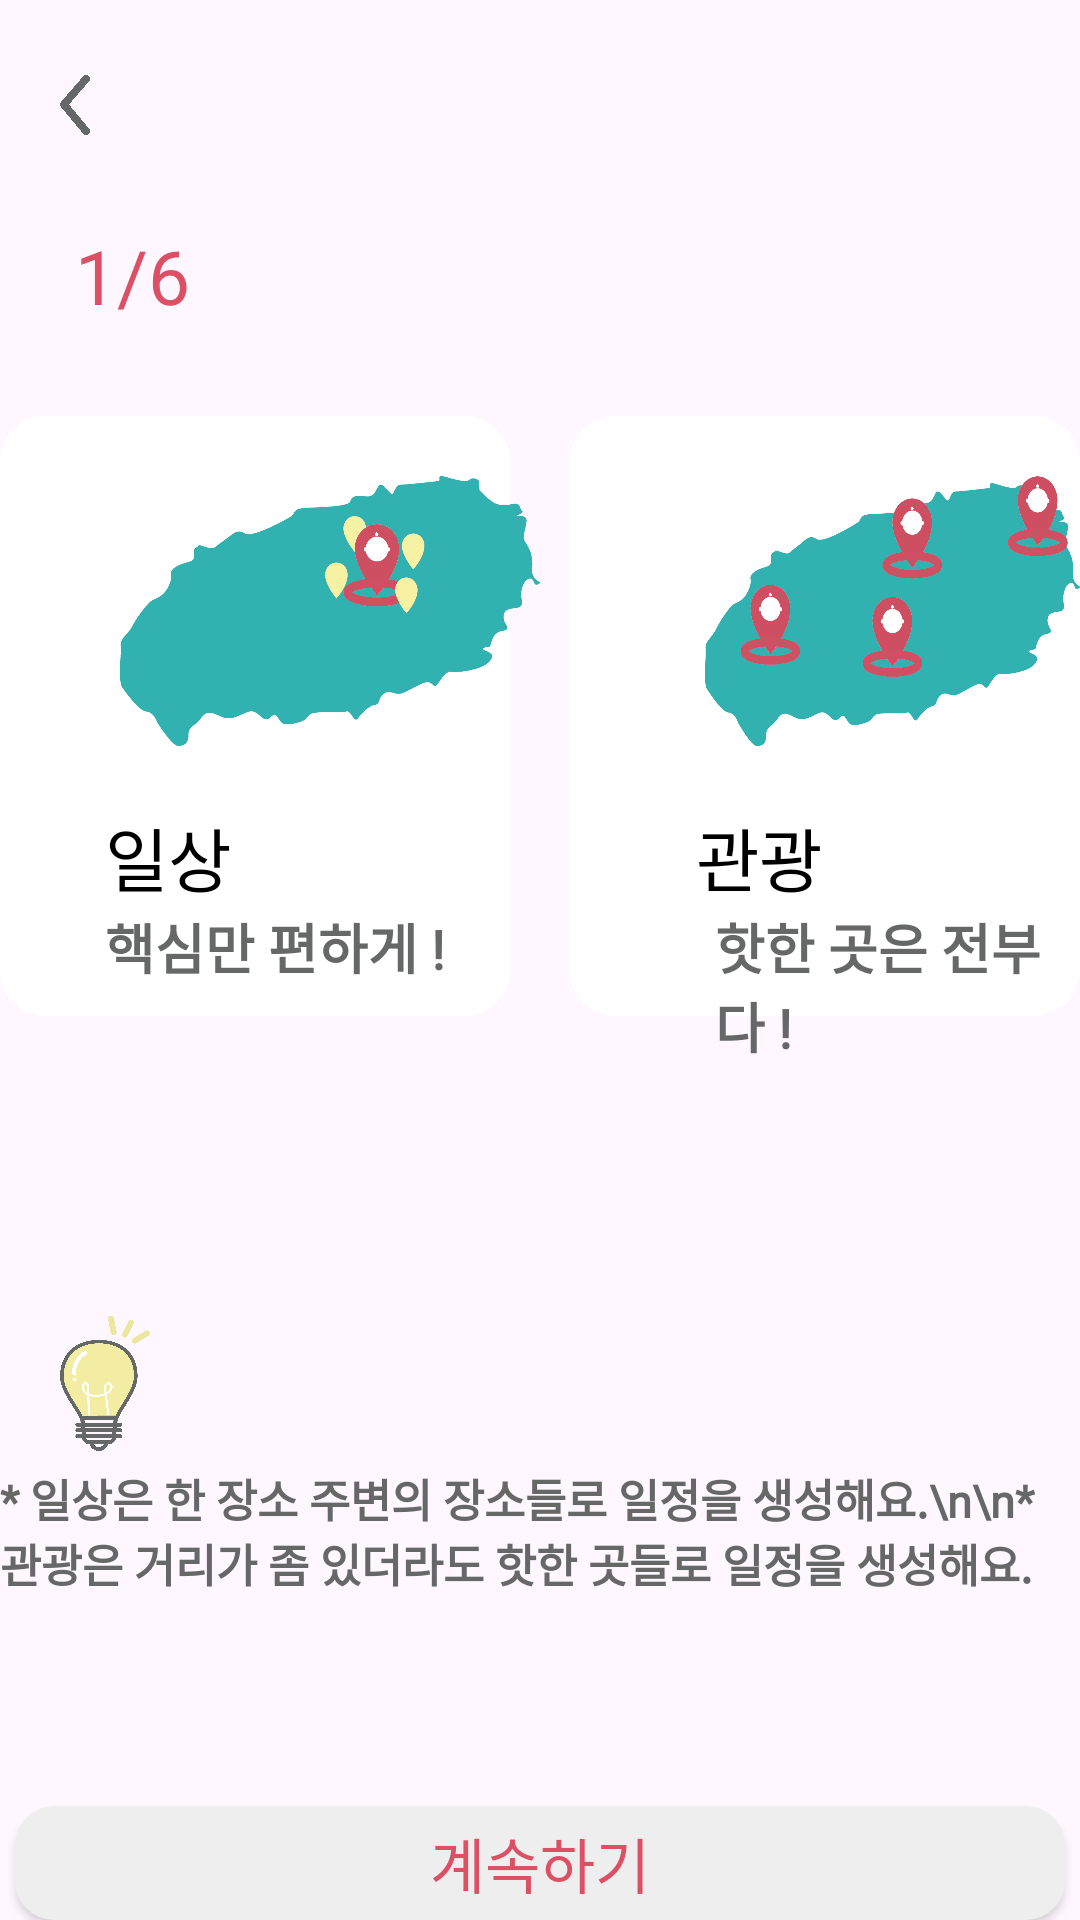

Icons on this 1080x1920 Android screen, each with the point to tap as point (x, y):
wlsback: point (75, 105)
